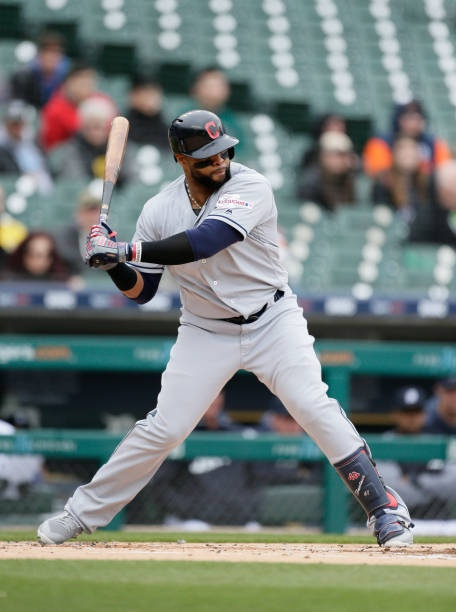bita: (92, 118, 132, 255)
